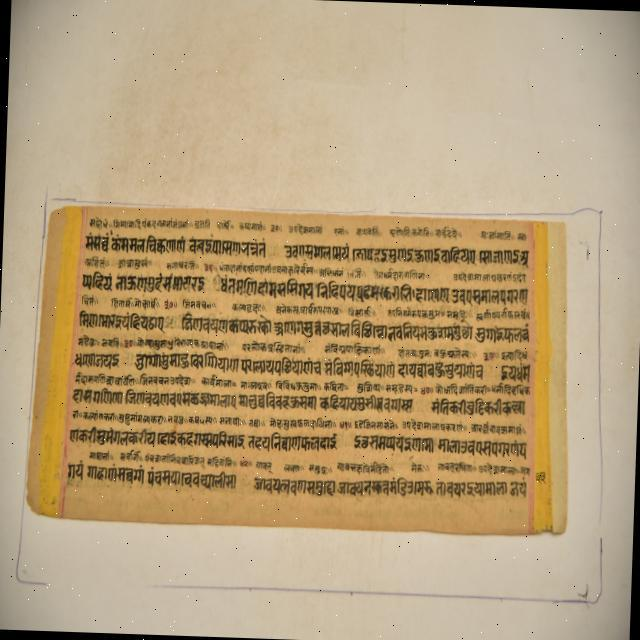text_paragraph: (26, 202, 563, 535)
